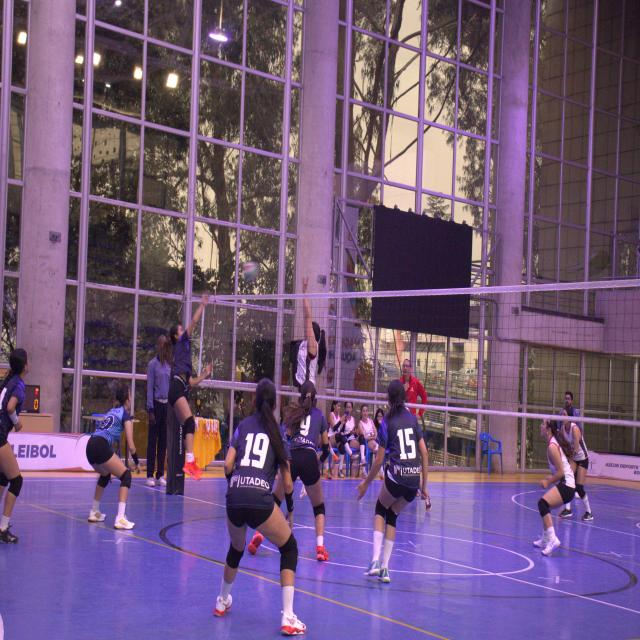volleyball: (244, 260, 261, 286)
